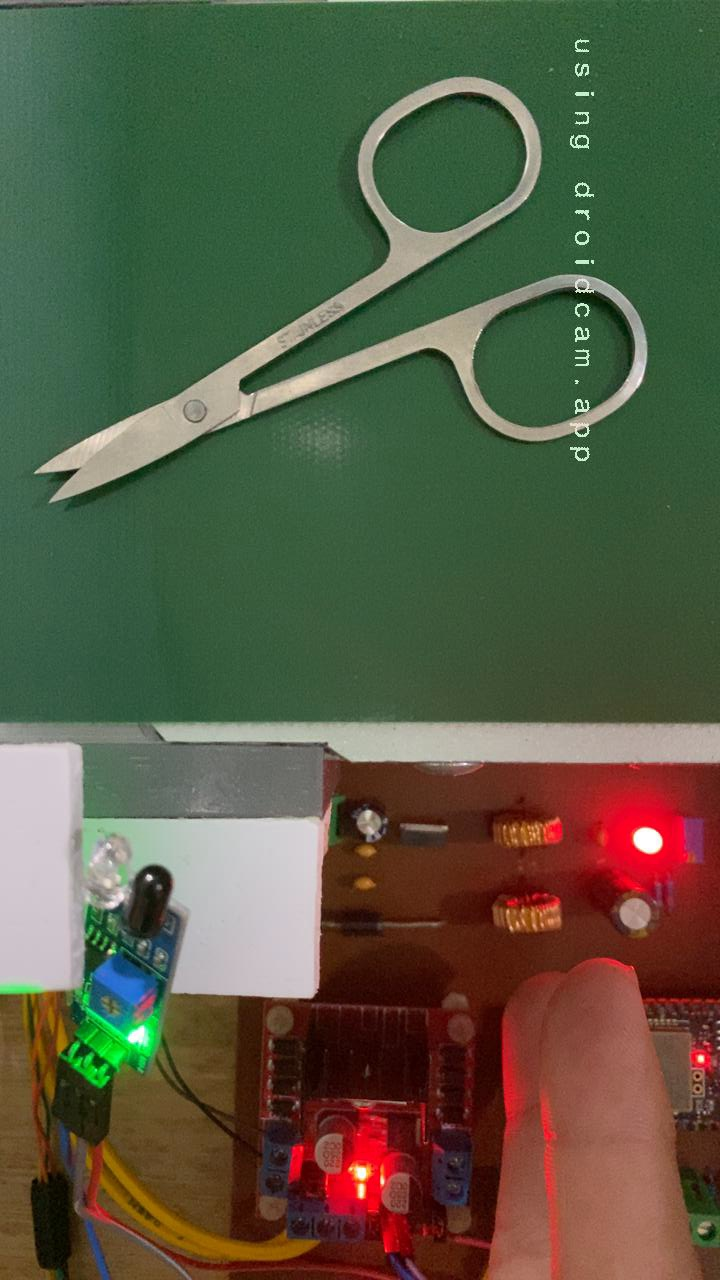scissor: (30, 70, 656, 510)
